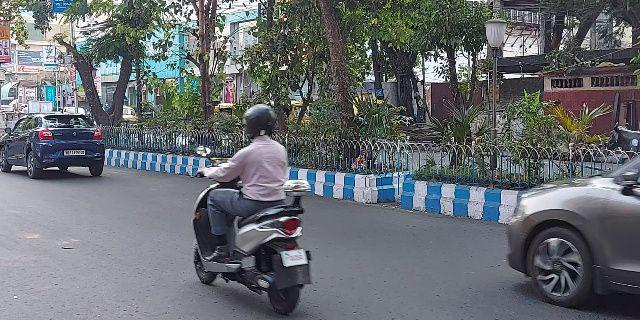Car: (497, 139, 640, 307), (1, 110, 108, 182)
Motorbike: (183, 100, 316, 317)
